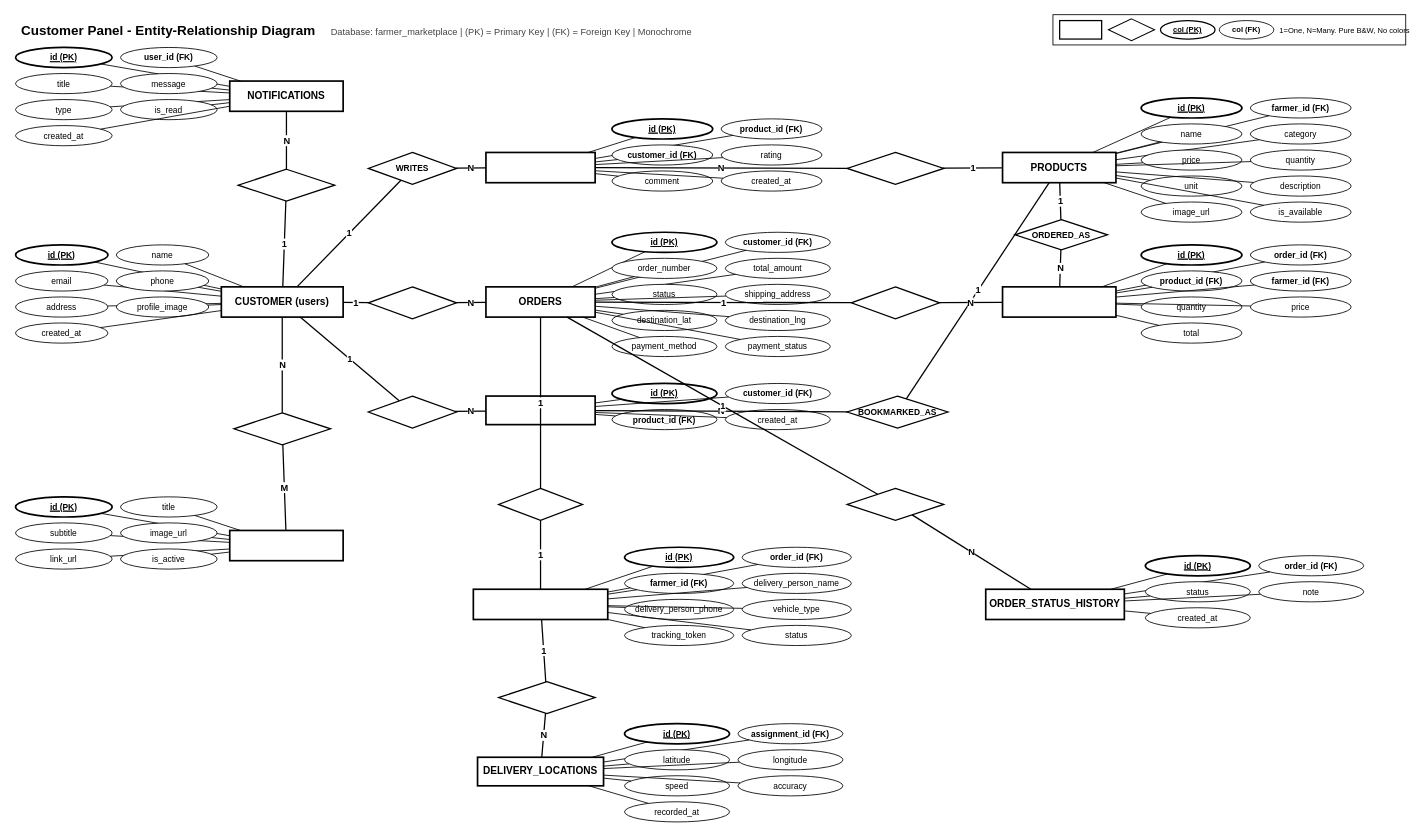
Image size: 1424x837. Some labels were removed from this diagram. Each missing label, with the box of its shape:
BANNERS: (228, 529, 344, 561)
CONTAINS: (850, 286, 940, 319)
DELIVERY_ASSIGNMENTS: (472, 588, 608, 620)
Entity: (1059, 20, 1102, 39)
HAS_TIMELINE: (846, 487, 944, 521)
ORDER_ITEMS: (1001, 286, 1116, 318)
PLACES: (367, 286, 457, 319)
RECEIVES: (237, 168, 335, 201)
Rel: (1107, 18, 1155, 41)
REVIEWS: (485, 151, 596, 183)
REVIEWS_FOR: (846, 151, 944, 185)
SAVES_TO: (367, 395, 457, 428)
STREAMS_GPS: (498, 681, 595, 714)
TRACKS: (498, 487, 583, 521)
VIEWS_OFFERS: (233, 412, 331, 445)
WISHLIST: (485, 395, 596, 425)
